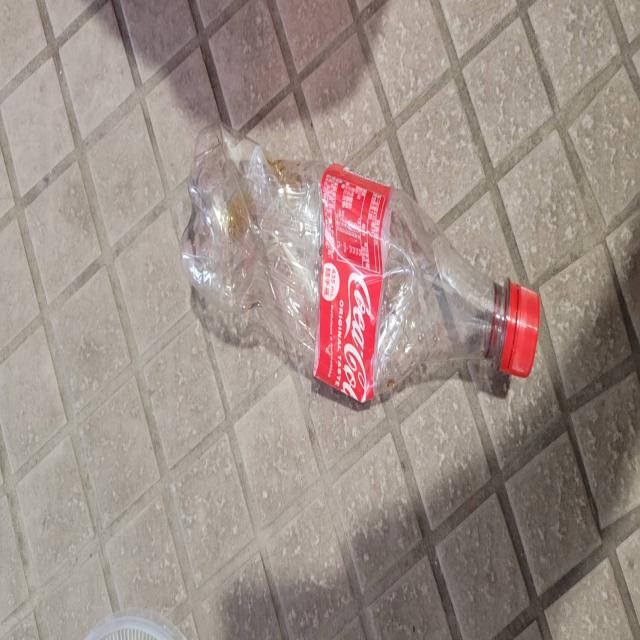PET bottle: (180, 110, 543, 407)
